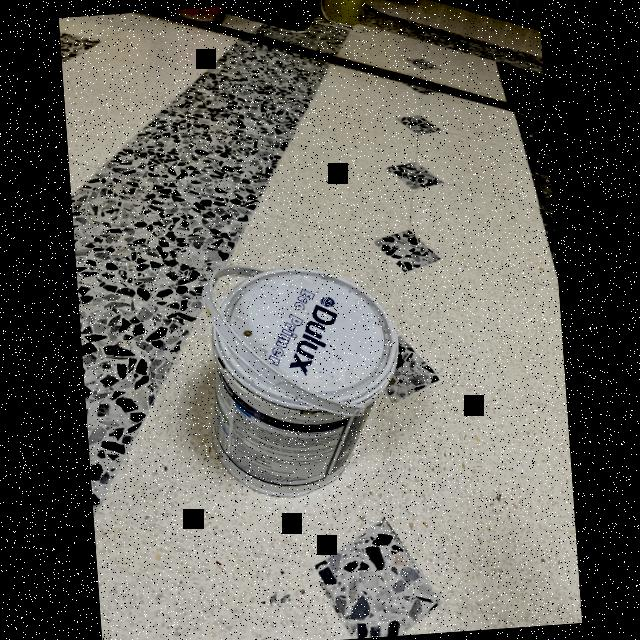paint_bucket: (186, 232, 415, 514)
